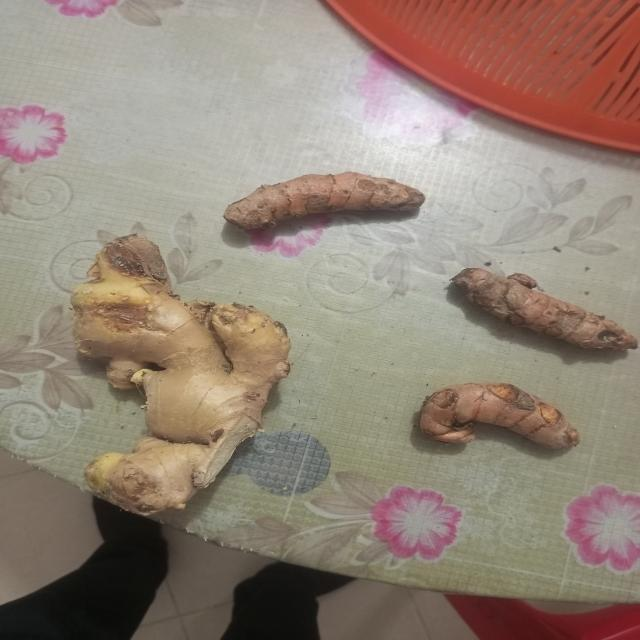ginger: (85, 250, 287, 510), (460, 269, 630, 351), (225, 170, 426, 227), (420, 384, 586, 452)
